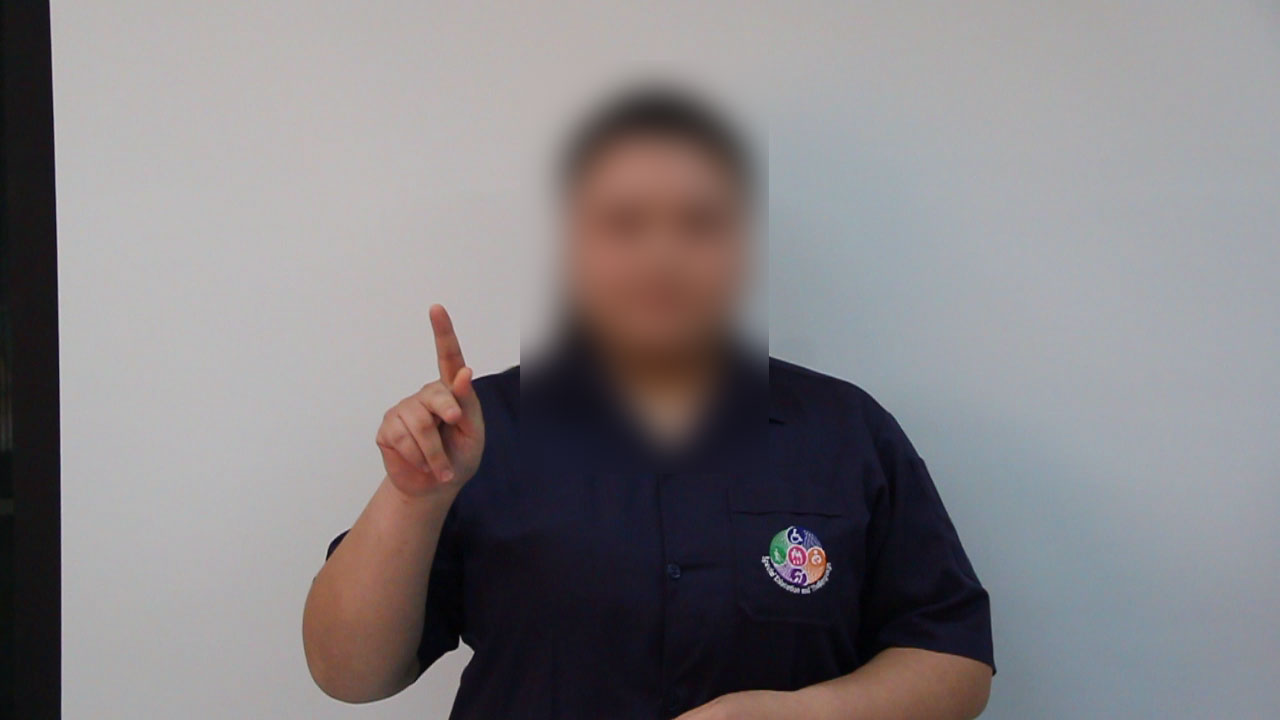ko: (357, 290, 519, 506)
